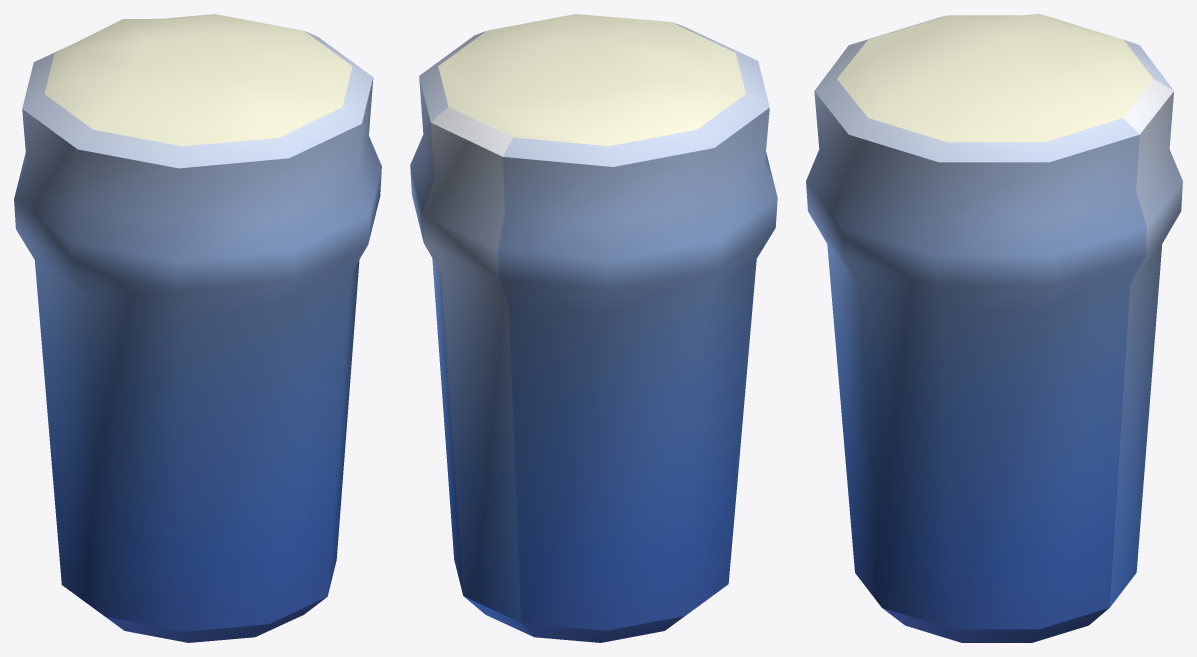
File: m_NonicPintBeer01.fbx
3 renders of one model, left to right at view 1: azimuth 30°, elevation 25°; view 2: azimuth 150°, elevation 25°; view 3: azimuth 270°, elevation 25°, orthographic.
Parts seen in each view (by area): view 1: m_NonicPintBeer01; view 2: m_NonicPintBeer01; view 3: m_NonicPintBeer01.
Part boxes in pixels (x1,y1,x2,y2): m_NonicPintBeer01: [14, 14, 381, 642]; m_NonicPintBeer01: [410, 14, 777, 642]; m_NonicPintBeer01: [806, 14, 1182, 642].
Bounding box in the file's own units: 13.74 × 22.64 × 14.44.
